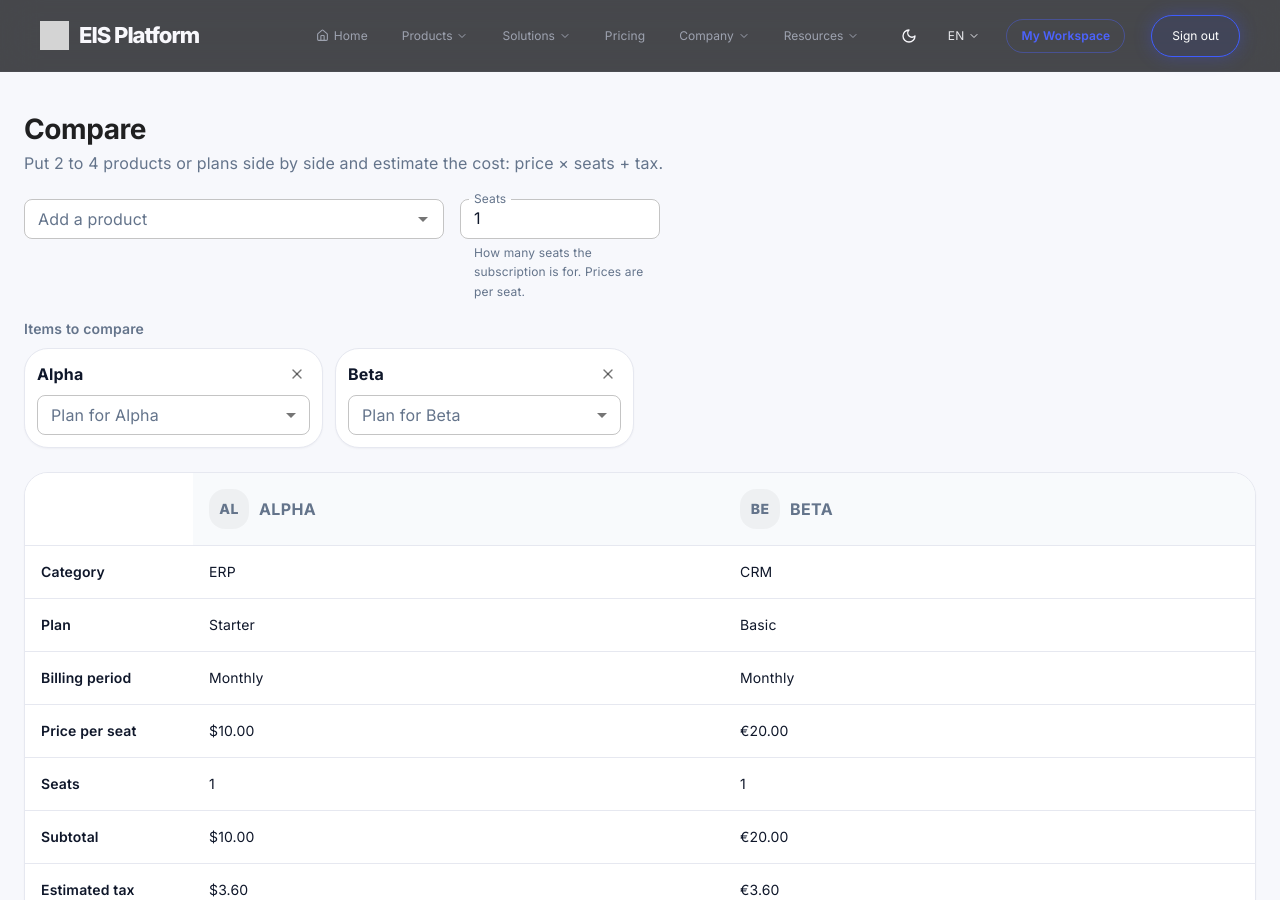
Test case: Compare page (C102) › adds a product from the picker to the URL, up to 4, and offers another plan of a product already chosen
The width and height of the screenshot is (1280, 900).
Step 1. Click the dropdown labelled "Add a product" → (218,219), box [30,205,405,233]
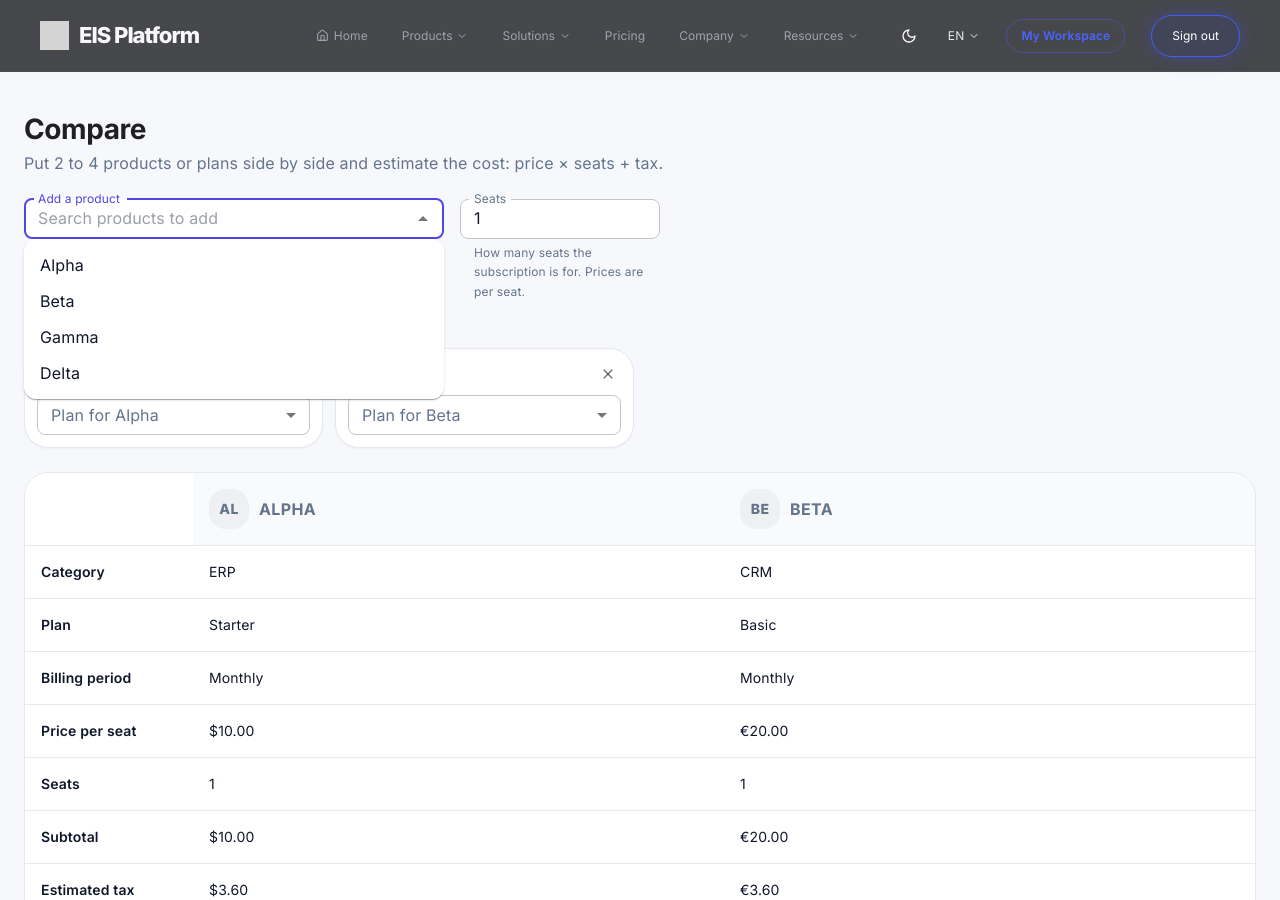
Step 2. Click the option "Gamma" → (69,337), box [40,327,99,347]
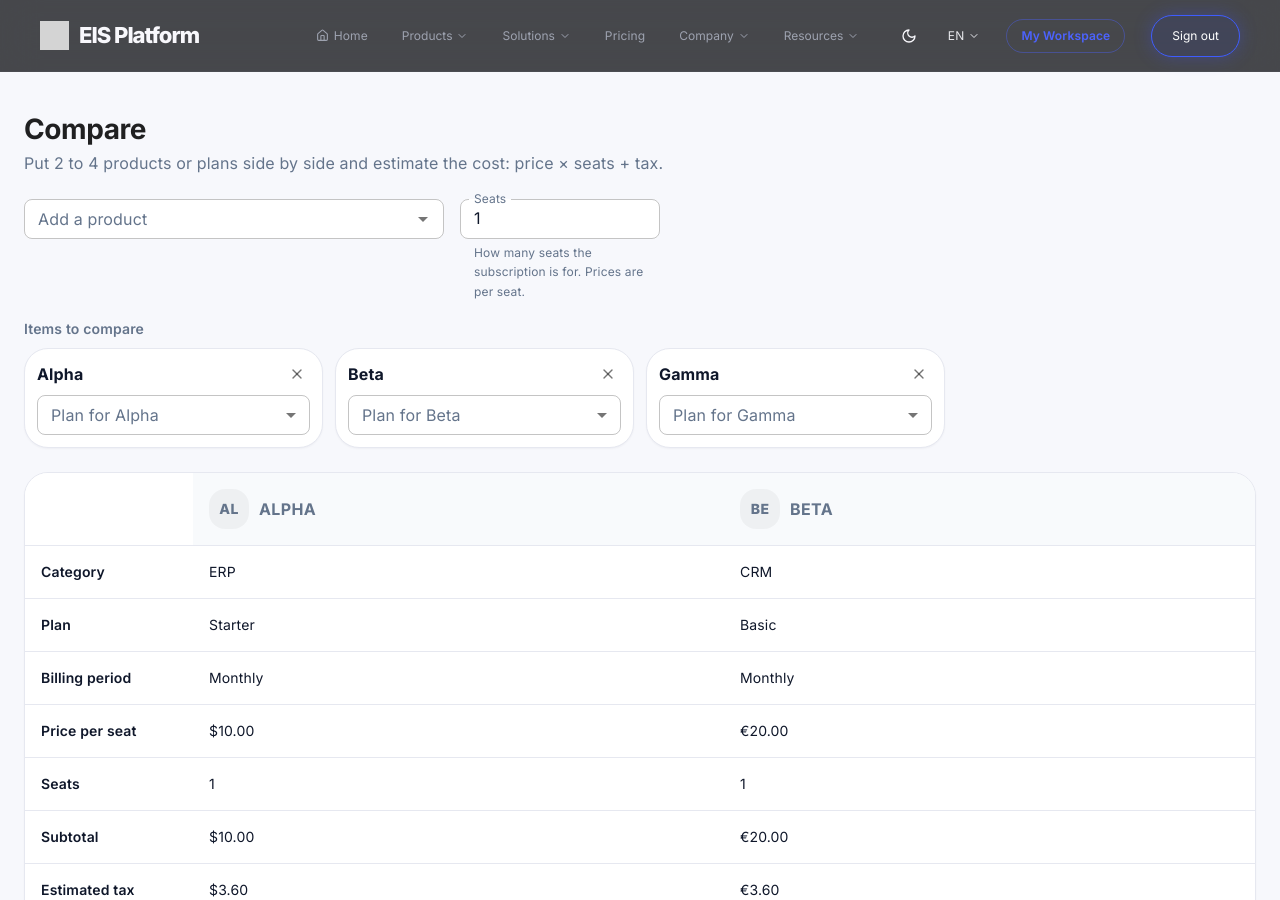
Alpha is chosen already: adding it again picks its first plan not yet in the comparison.
Step 3. Click the dropdown labelled "Add a product" → (218,219), box [30,205,405,233]
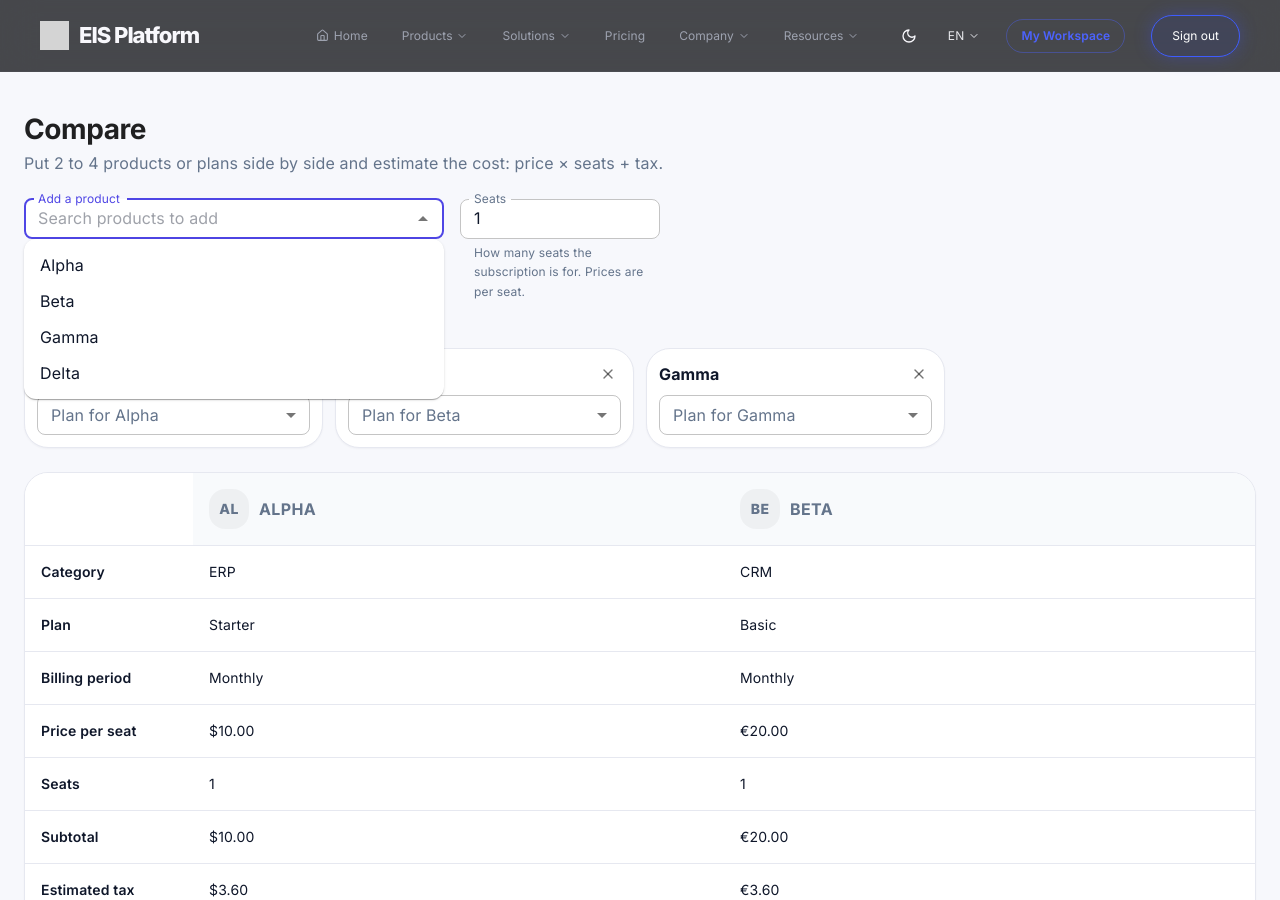
Step 4. Click the option "Alpha" → (62,265), box [40,255,84,275]
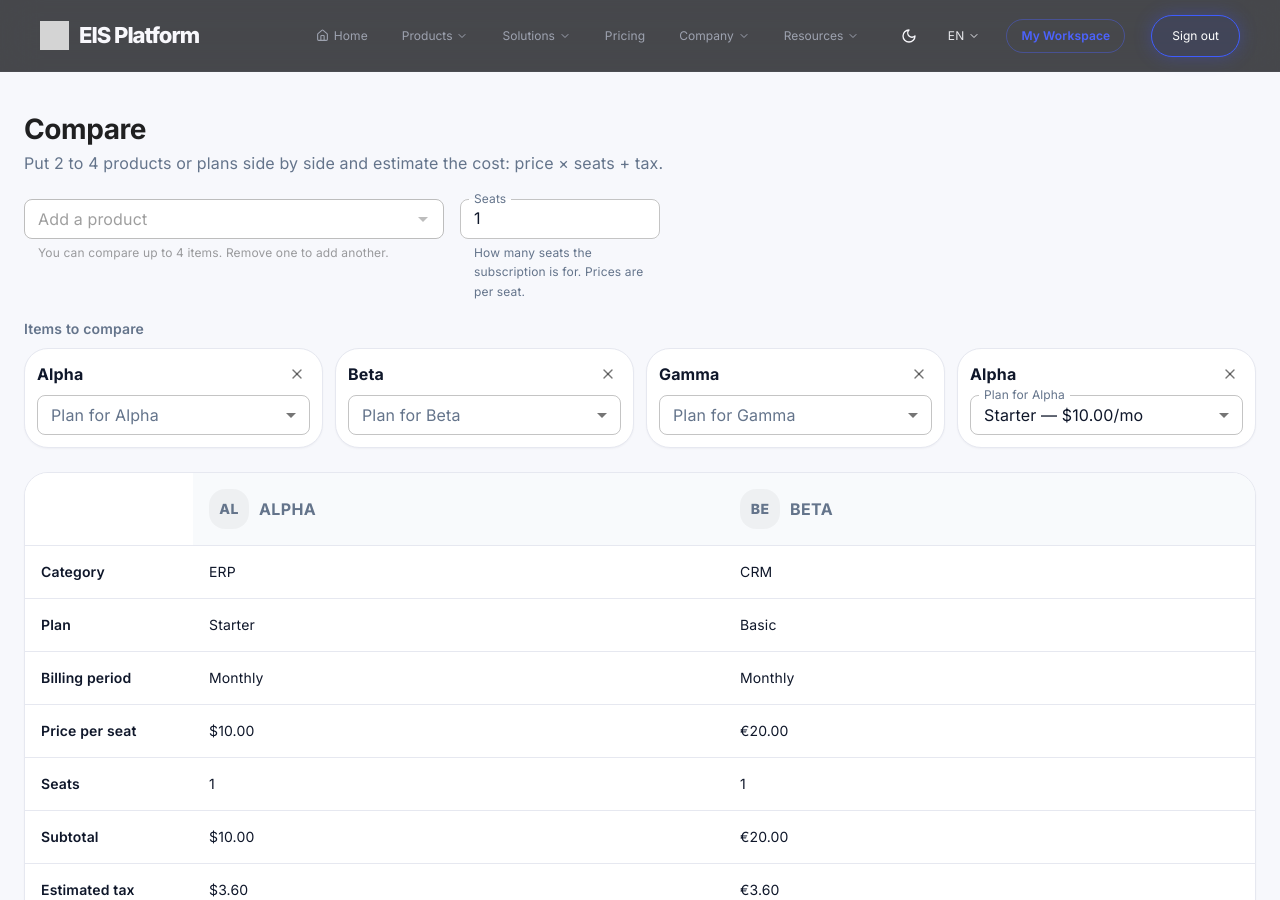
Expected: the dropdown labelled "Add a product" is disabled, [30,205,405,233]
Expected: the text "You can compare up to 4 items. Remove one to add another." is shown, [38,243,430,262]
